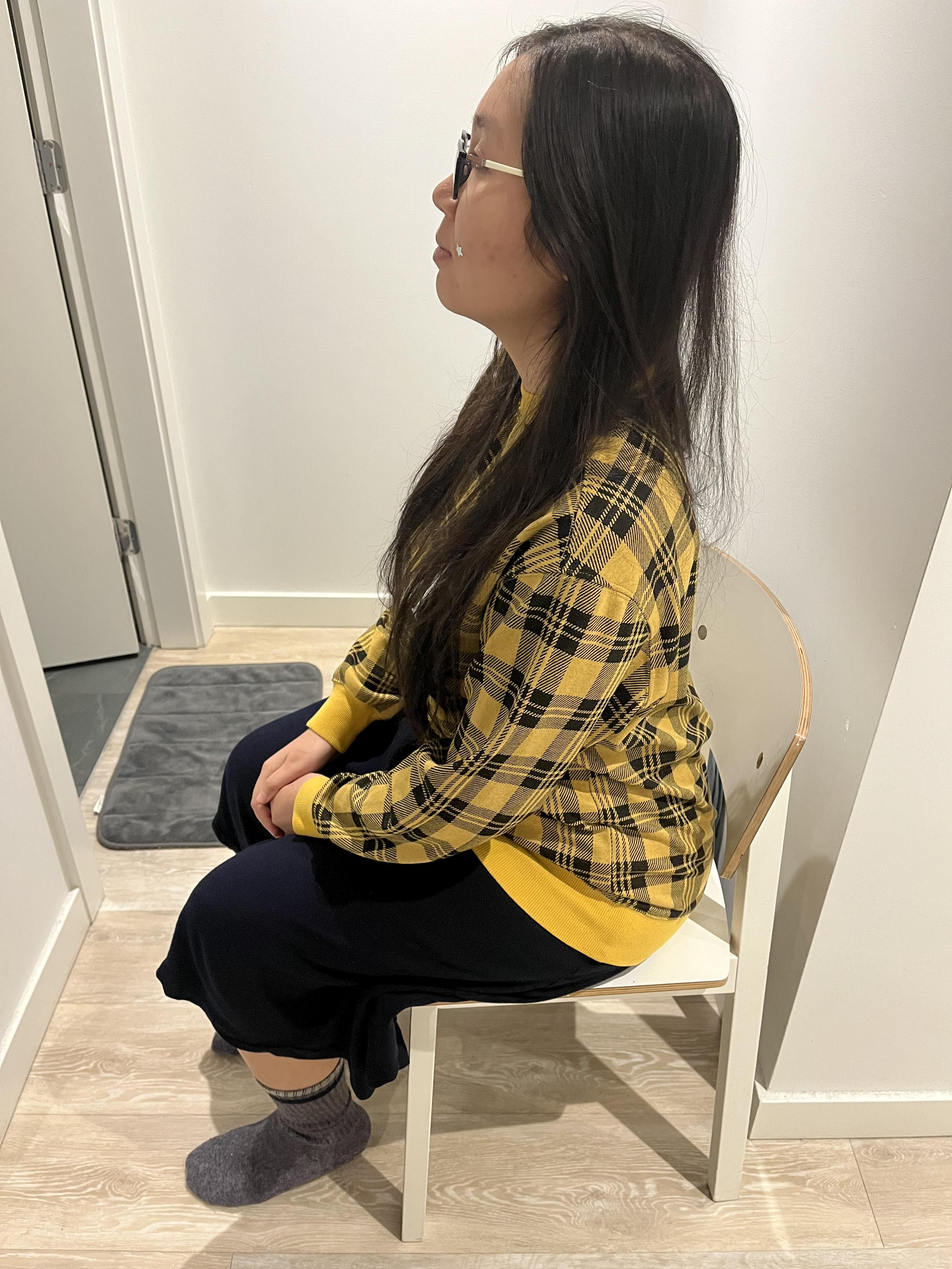GoodPosture: (165, 17, 743, 1205)
